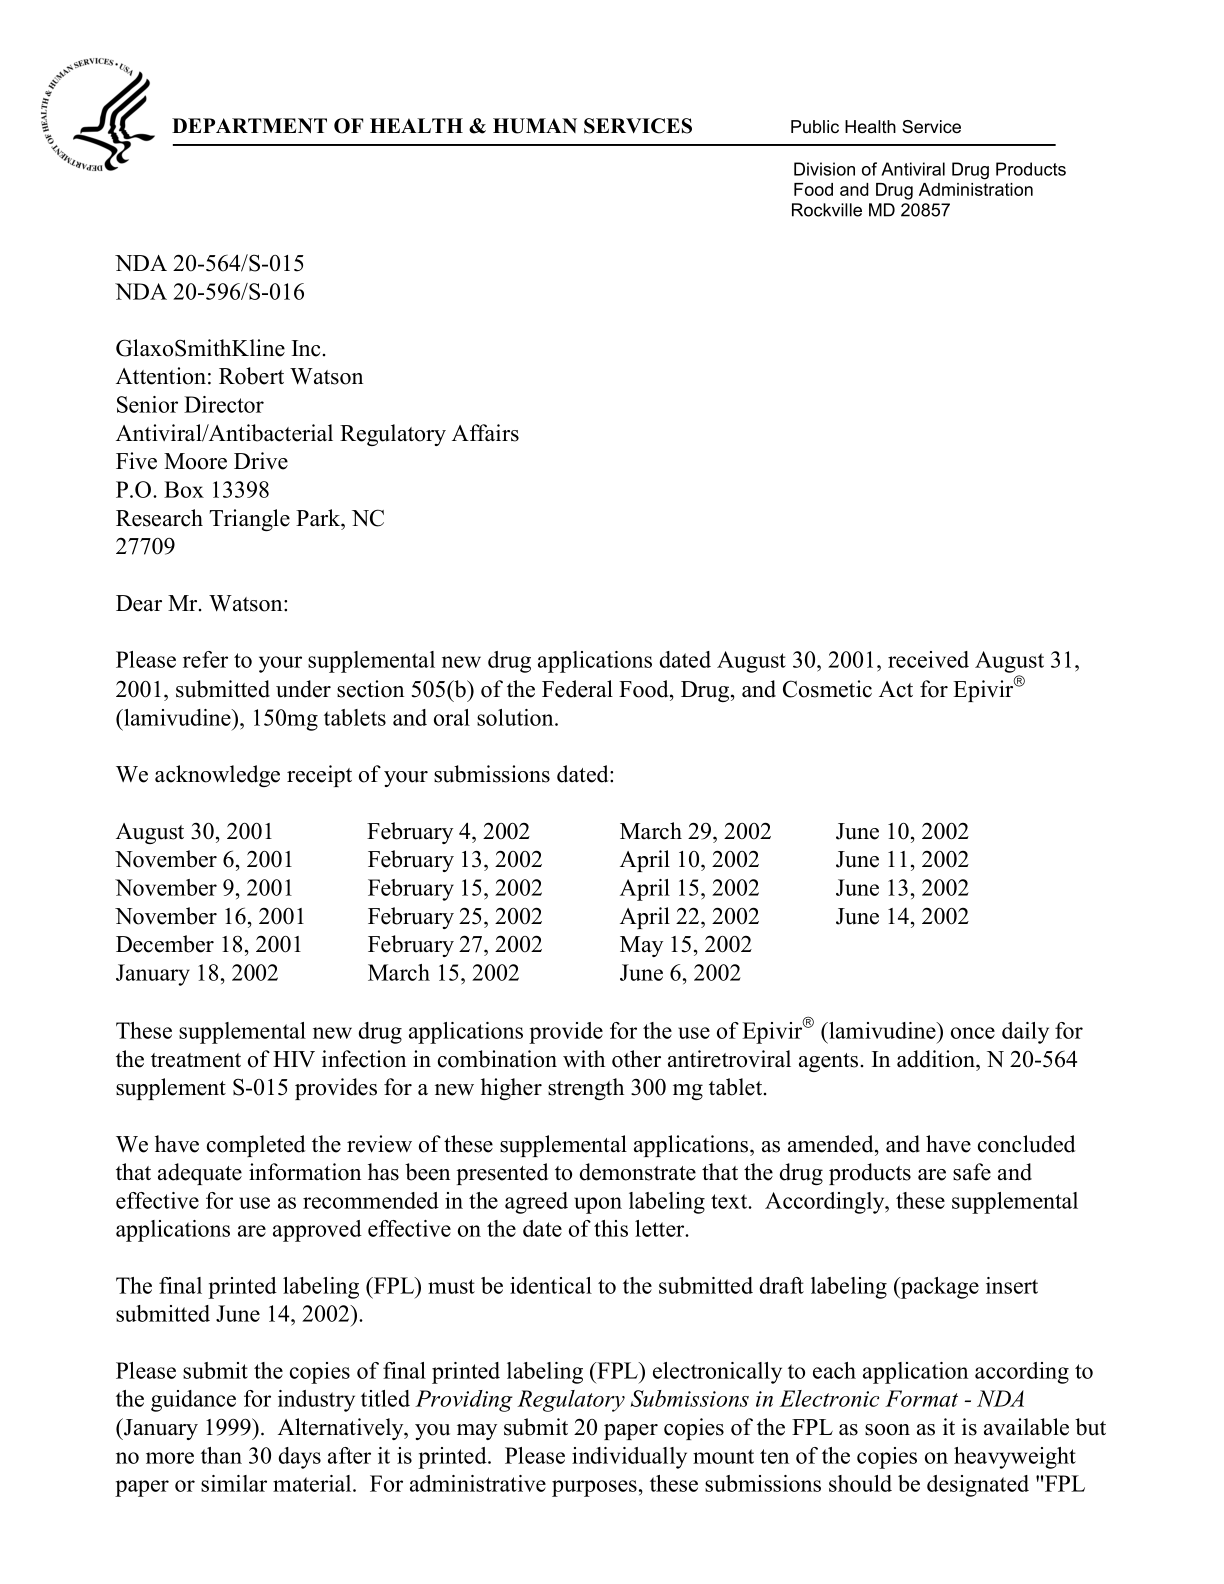nolines: (111, 819, 972, 985)
